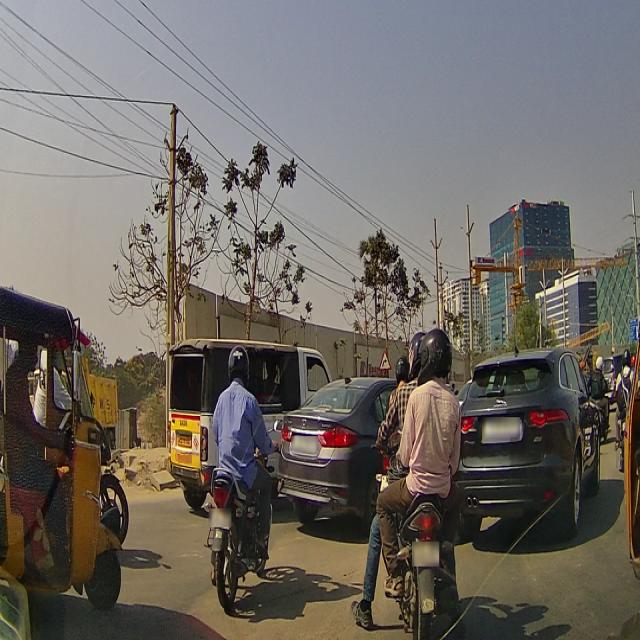right-hand-curve: (377, 346, 392, 372)
